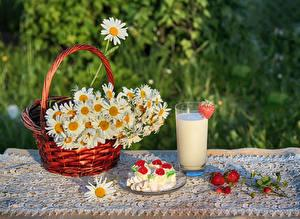chamomile: (90, 179, 111, 199), (92, 116, 116, 133), (103, 101, 124, 119), (105, 22, 124, 40), (75, 89, 105, 100), (110, 119, 130, 132), (59, 138, 79, 151), (82, 119, 101, 132), (71, 95, 93, 106), (102, 84, 117, 100), (65, 118, 80, 133), (148, 96, 164, 109), (94, 102, 111, 114), (120, 113, 137, 125), (155, 106, 169, 120), (46, 108, 65, 118), (65, 104, 79, 117), (141, 86, 153, 101), (53, 123, 68, 135), (80, 103, 94, 115), (124, 89, 138, 97)
